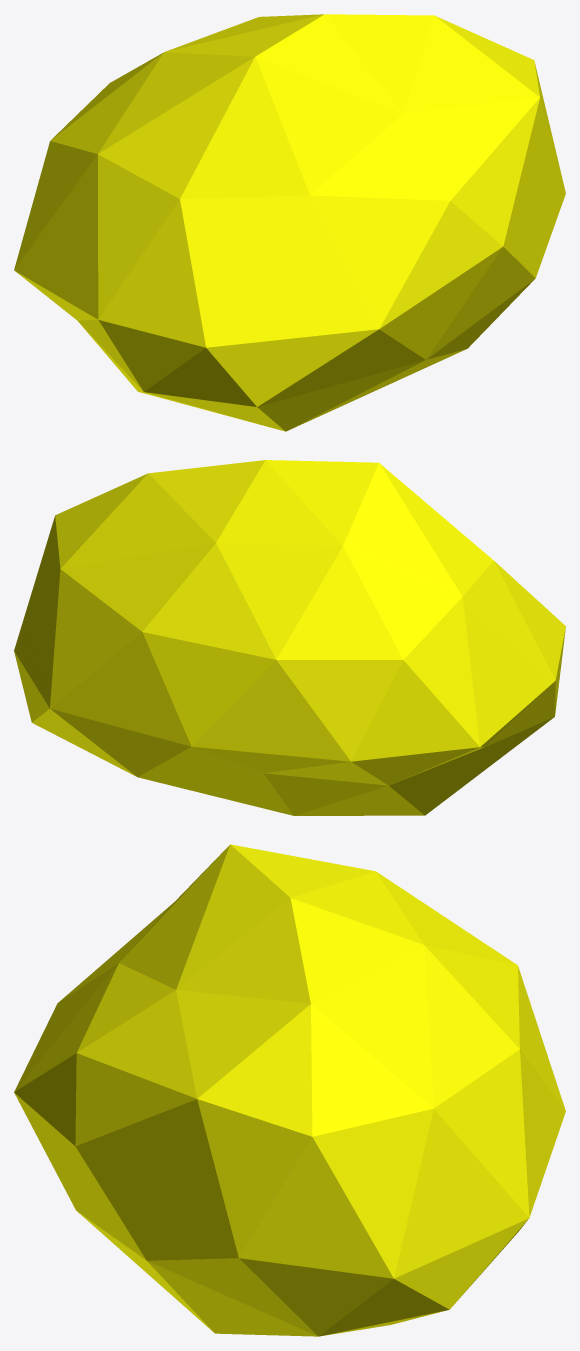
Rendered from bush_berries_empty.glb.
3 views of the same model, one above another, from view 1: azimuth 30°, elevation 25°; view 2: azimuth 150°, elevation 25°; view 3: azimuth 270°, elevation 25° (orthographic). The views are drawn at different scales.
Parts seen in each view (by area): view 1: bush_berries_empty; view 2: bush_berries_empty; view 3: bush_berries_empty.
Boxes of the visible parts, x1,y1,x2,y2 form: bush_berries_empty: (14,14,565,431); bush_berries_empty: (14,460,565,815); bush_berries_empty: (14,844,565,1336).
Size of the model in its own units: 4.38 by 2.85 by 3.75.
Materials: 1 (1 with a texture image).
